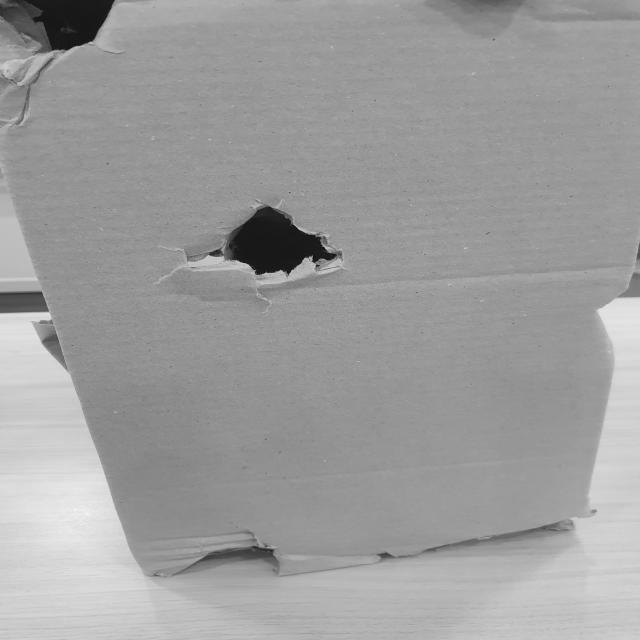hole: (185, 200, 350, 288), (0, 0, 140, 64), (156, 540, 308, 572)
